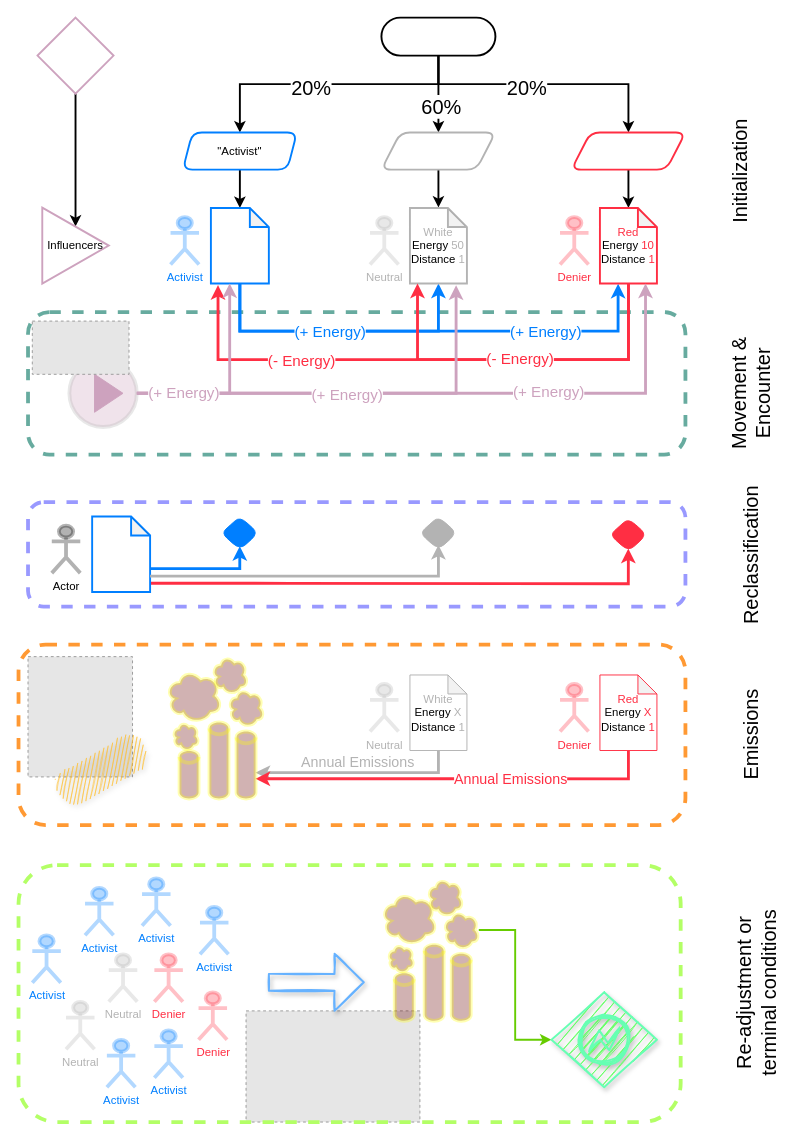
The diagram is 810 pixels wide and 1140 high, and some of its shapes have lost their labels. Grey dashed boxes stand in for pictures. The shapes that lost their labels are listed below. From the top down, each one's centre as x and y in pixels, then its label:
point 75,55: "VIPs"
point 438,36: "Population"
point 438,150: "Neutral"
point 628,150: "Denier"
point 239,245: Blue Energy 70 Distance 1
point 121,554: Color (?) Energy "X"
point 101,770: Warning
point 604,1040: "Carbon capture"
